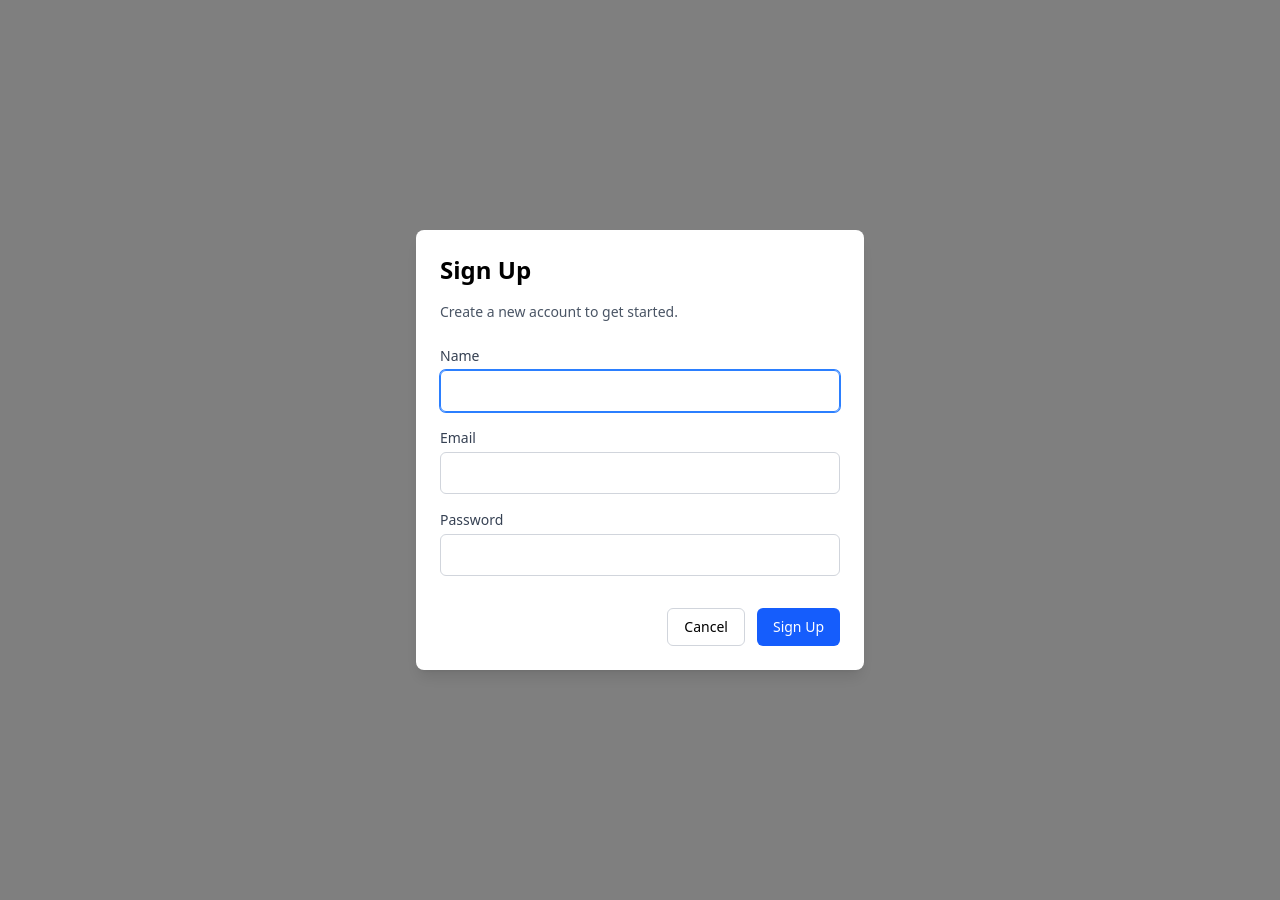
Test: SignupDialog › validates name minimum length
In the field labelled "Name": (640, 391) [440, 370, 840, 412], type "A"
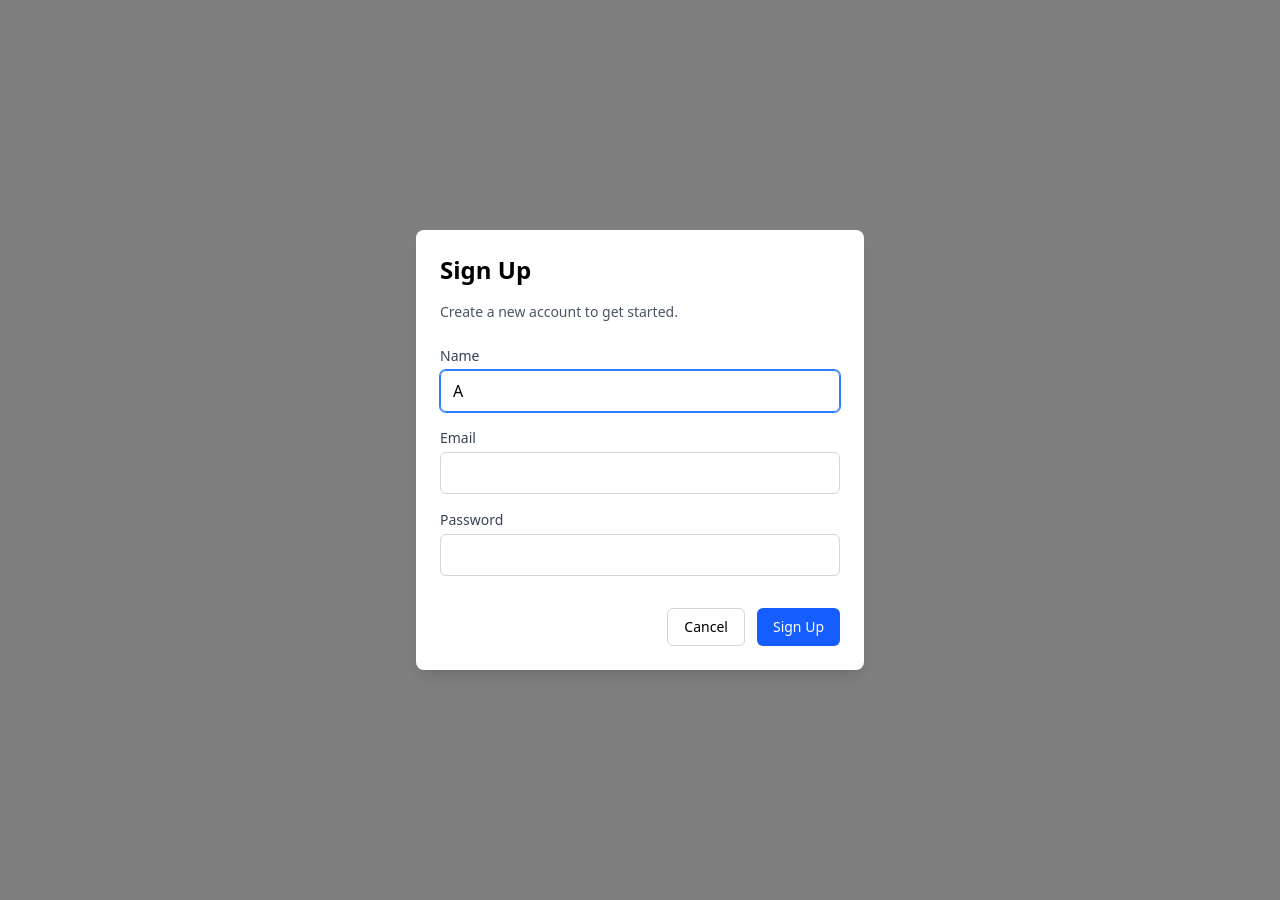
Click the button "Sign Up": (798, 627) [757, 608, 840, 646]
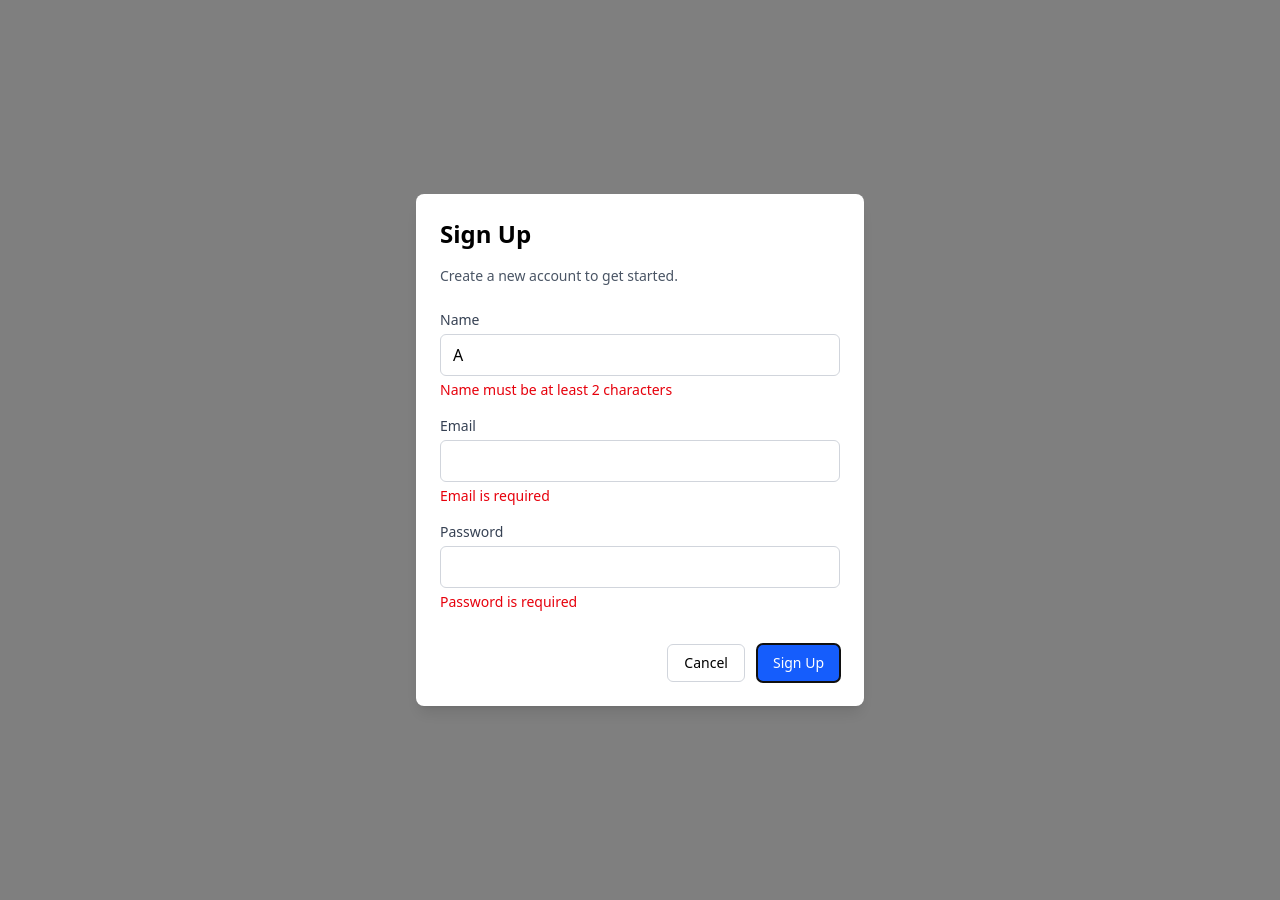
Now the text "Name must be at least 2 characters" is shown, box [440, 380, 672, 399]
